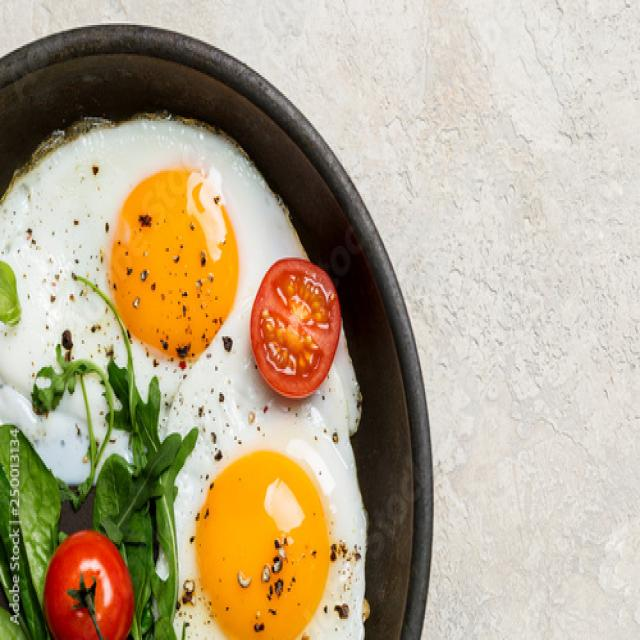Egg: (0, 116, 359, 583), (168, 323, 366, 637)
